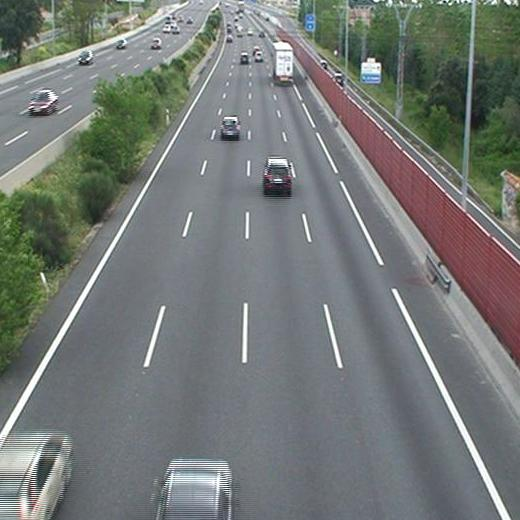car: (1, 432, 69, 519), (263, 159, 291, 190), (221, 116, 240, 137), (240, 53, 249, 63), (255, 52, 263, 61)
truck: (272, 42, 292, 84)
